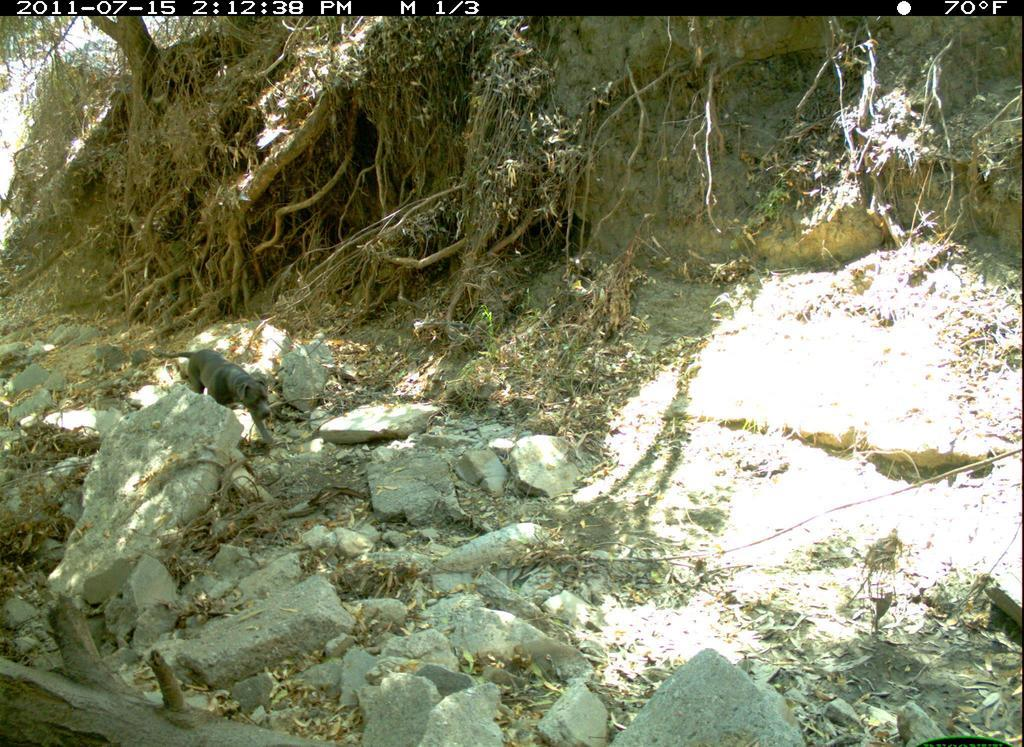dog: (140, 340, 296, 460)
